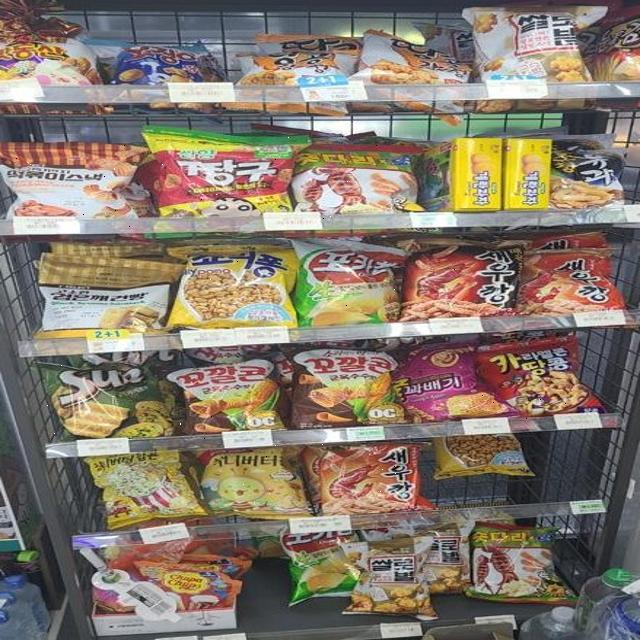product: (148, 132, 292, 222), (5, 140, 151, 227), (298, 135, 424, 221), (174, 242, 292, 331), (292, 340, 405, 431), (172, 352, 282, 442), (482, 338, 592, 423), (47, 364, 166, 442), (316, 438, 428, 520), (409, 239, 524, 317), (302, 239, 407, 323), (196, 445, 307, 513)
